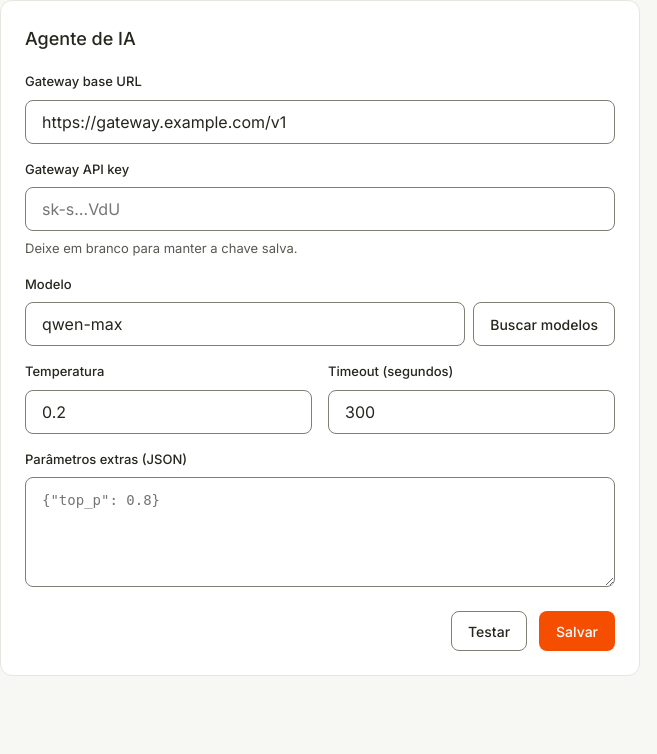
Scenario: AiSettingsForm: Testar › falha com status mostra HTTP e o erro
What coordinates should you click on to do the following:
click the button "Testar"
I would click on:
 (489, 631)
Its box is [451,611,527,651].
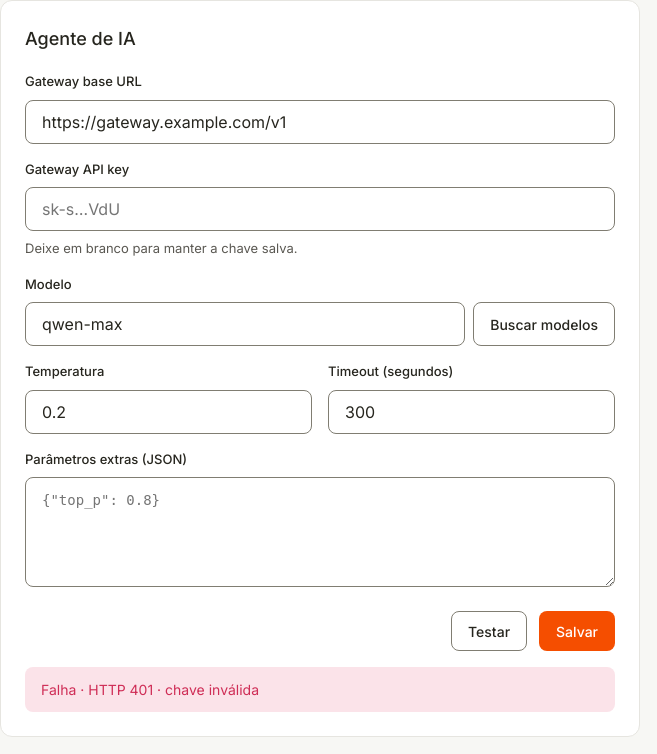
Check: the text "Falha · HTTP 401 · chave inválida" is shown, box [25,667,615,712]
